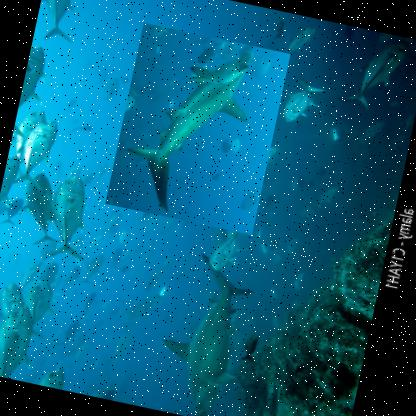hammerhead_Shark: (103, 23, 290, 236)
